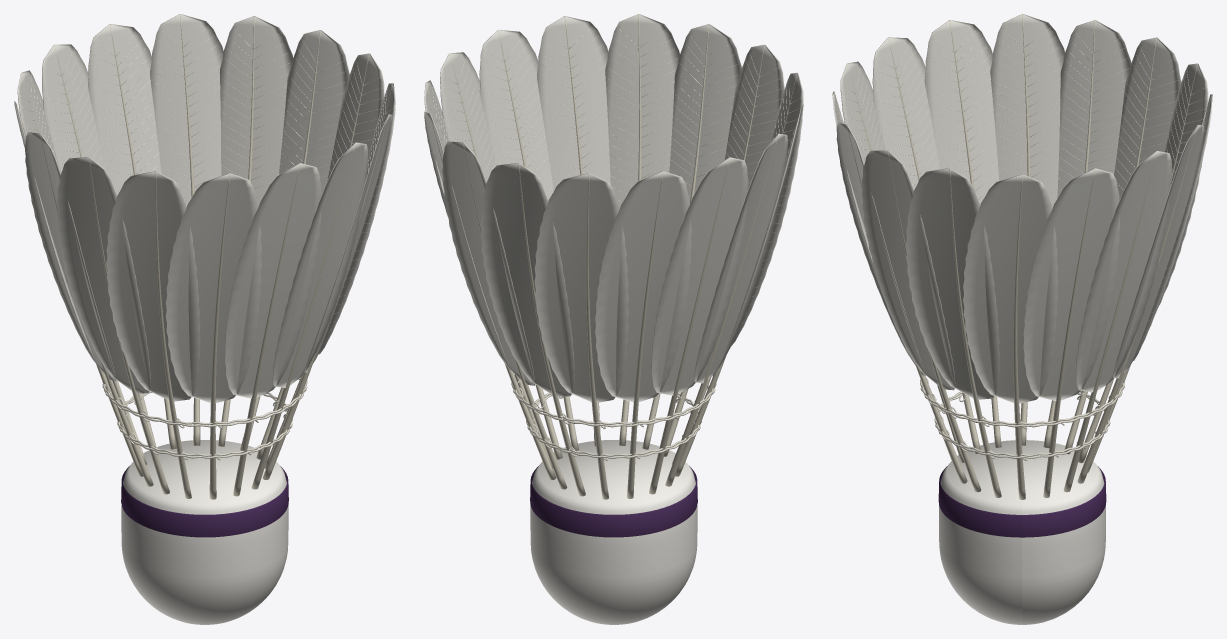
The model's file is huayu-shuttle.meshopt.glb.
The picture shows the model from 3 angles, left to right: view 1: azimuth 30°, elevation 25°; view 2: azimuth 150°, elevation 25°; view 3: azimuth 270°, elevation 25°; orthographic projection.
Parts seen in each view (by area): view 1: Cork leather shell, Vane_08, Vane_07, Vane_09, Vane_16, Vane_15, Vane_06, Vane_01, Vane_10, Vane_14, Vane_02, Vane_05 (+21 smaller); view 2: Cork leather shell, Vane_03, Vane_02, Vane_04, Vane_01, Vane_10, Vane_11, Vane_09, Vane_12, Vane_16, Vane_05, Vane_08 (+24 smaller); view 3: Cork leather shell, Vane_13, Vane_14, Vane_12, Vane_05, Vane_15, Vane_06, Vane_04, Vane_11, Vane_07, Vane_03, Collar deep plum (+24 smaller).
Part boxes in pixels (left/top/right/bottom): Cork leather shell: left=121, top=440, right=288, bottom=624; Vane_08: left=165, top=173, right=261, bottom=402; Vane_07: left=106, top=171, right=200, bottom=401; Vane_09: left=224, top=163, right=321, bottom=398; Vane_16: left=150, top=14, right=223, bottom=207; Vane_15: left=219, top=16, right=293, bottom=206; Vane_06: left=57, top=157, right=150, bottom=393; Vane_01: left=88, top=24, right=161, bottom=195; Vane_10: left=272, top=142, right=367, bottom=387; Vane_14: left=279, top=30, right=349, bottom=194; Vane_02: left=42, top=44, right=104, bottom=172; Vane_05: left=25, top=132, right=116, bottom=381; Cork leather shell: left=530, top=440, right=697, bottom=624; Vane_03: left=595, top=171, right=691, bottom=402; Vane_02: left=534, top=173, right=628, bottom=402; Vane_04: left=651, top=157, right=748, bottom=395; Vane_01: left=480, top=163, right=574, bottom=396; Vane_10: left=605, top=14, right=679, bottom=208; Vane_11: left=537, top=16, right=610, bottom=191; Vane_09: left=669, top=24, right=741, bottom=203; Vane_12: left=479, top=30, right=553, bottom=200; Vane_16: left=442, top=141, right=534, bottom=385; Vane_05: left=694, top=133, right=787, bottom=383; Vane_08: left=725, top=44, right=784, bottom=189; Cork leather shell: left=939, top=440, right=1105, bottom=624; Vane_13: left=963, top=174, right=1058, bottom=403; Vane_14: left=1023, top=168, right=1120, bottom=400; Vane_12: left=906, top=168, right=999, bottom=399; Vane_05: left=990, top=14, right=1064, bottom=208; Vane_15: left=1075, top=151, right=1172, bottom=392; Vane_06: left=924, top=20, right=999, bottom=205; Vane_04: left=1057, top=20, right=1131, bottom=198; Vane_11: left=861, top=150, right=955, bottom=390; Vane_07: left=872, top=37, right=940, bottom=189; Vane_03: left=1114, top=37, right=1181, bottom=200; Collar deep plum: left=938, top=466, right=1106, bottom=537.
Size of the model in its own units: 0.0594 by 0.09 by 0.0594.
